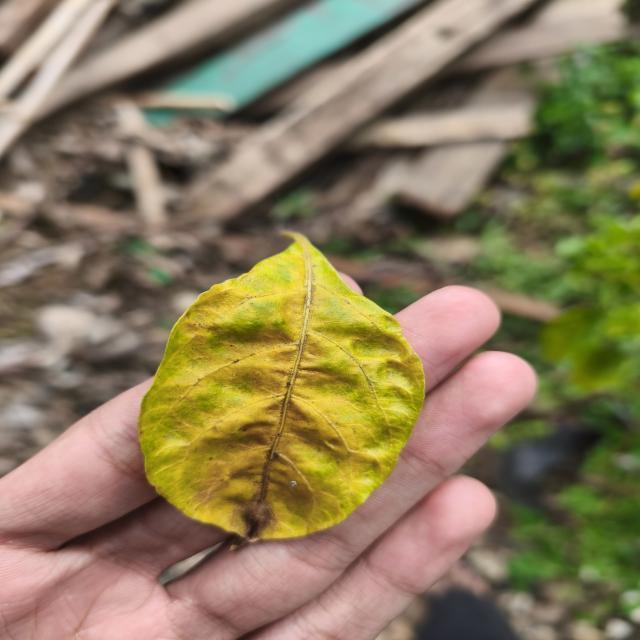Virus Kuning: (136, 230, 426, 549)
